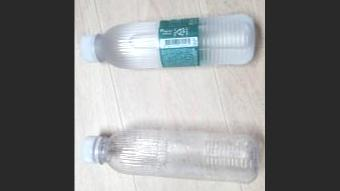bottle: (80, 7, 258, 73), (82, 122, 258, 184)
